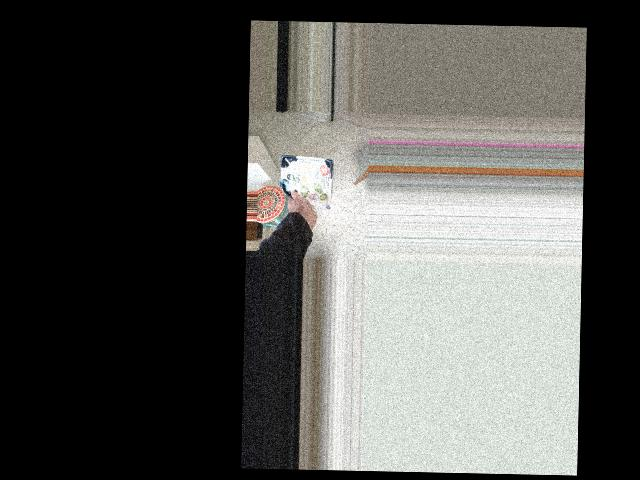cheese: (272, 157, 340, 225)
